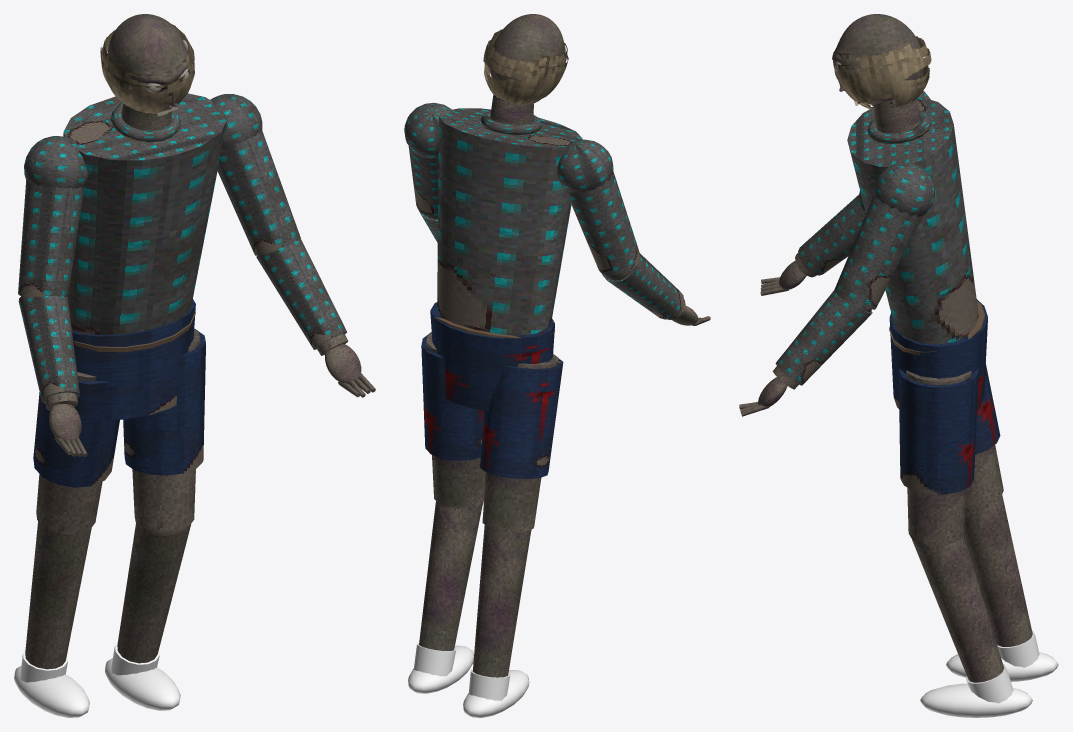
File: Zombie_016.glb
3 views of the same model, side by side, from view 1: azimuth 30°, elevation 25°; view 2: azimuth 150°, elevation 25°; view 3: azimuth 270°, elevation 25° (orthographic). The views are drawn at different scales.
Visible parts, largest first — view 1: Zombie_016, object 12, object 4, object 18, object 45, object 44, object 13, object 5; view 2: Zombie_016, object 18, object 4, object 45, object 44; view 3: Zombie_016, object 12, object 18, object 45, object 4, object 44, object 13.
Boxes of the visible parts, x1,y1,x2,y2 form: Zombie_016: [14, 93, 300, 717]; object 12: [256, 238, 346, 349]; object 4: [18, 296, 79, 403]; object 18: [108, 14, 188, 106]; object 45: [100, 42, 194, 113]; object 44: [102, 24, 192, 100]; object 13: [325, 344, 361, 383]; object 5: [49, 404, 81, 441]; Zombie_016: [404, 94, 640, 717]; object 18: [489, 14, 565, 81]; object 4: [602, 253, 684, 319]; object 45: [483, 40, 568, 104]; object 44: [485, 29, 567, 89]; Zombie_016: [834, 91, 1058, 717]; object 12: [775, 290, 872, 385]; object 18: [832, 14, 922, 106]; object 45: [833, 48, 931, 109]; object 4: [798, 195, 865, 275]; object 44: [835, 36, 928, 105]; object 13: [758, 377, 787, 406].
Bounding box in the file's own units: 0.8015 × 1.89 × 0.8086.
Materials: 16 (6 with a texture image).
